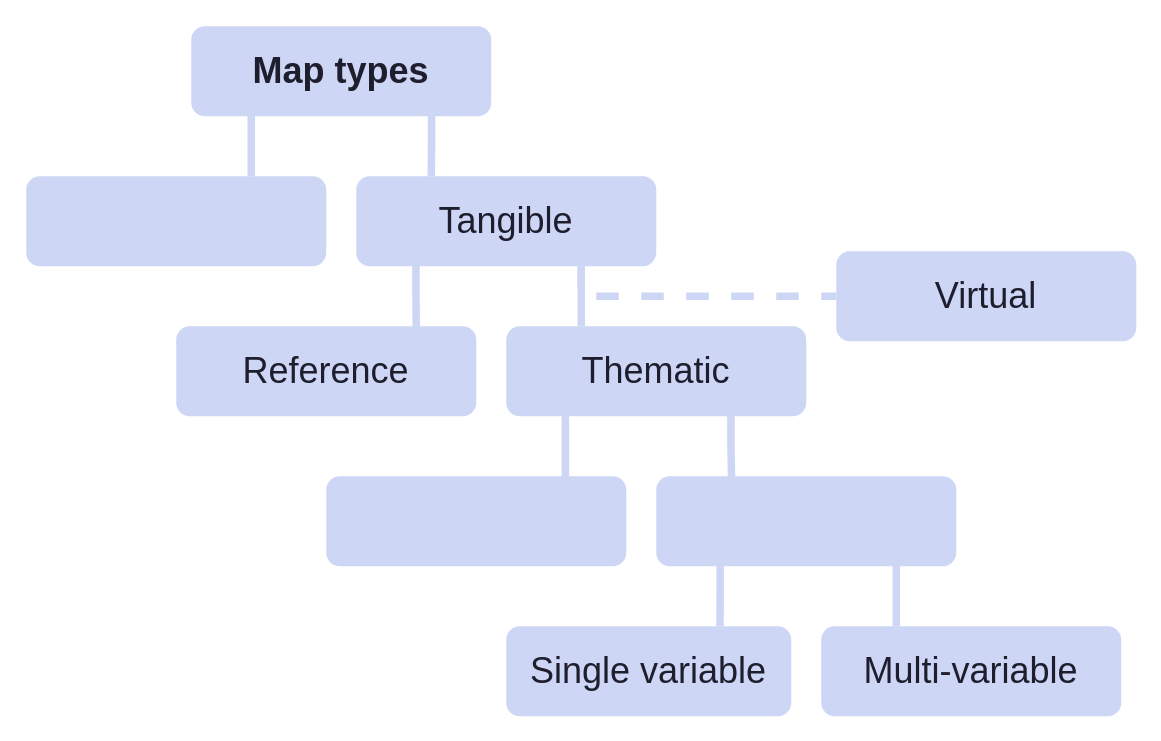
Image size: 1161x741. Some labels were removed from this diagram. Here are the shapes that lost their labels. From the top down, the centre of each, then its label:
At (176,221): "Mental".
At (476,521): "Qualitative".
At (806,521): "Quantitative".
